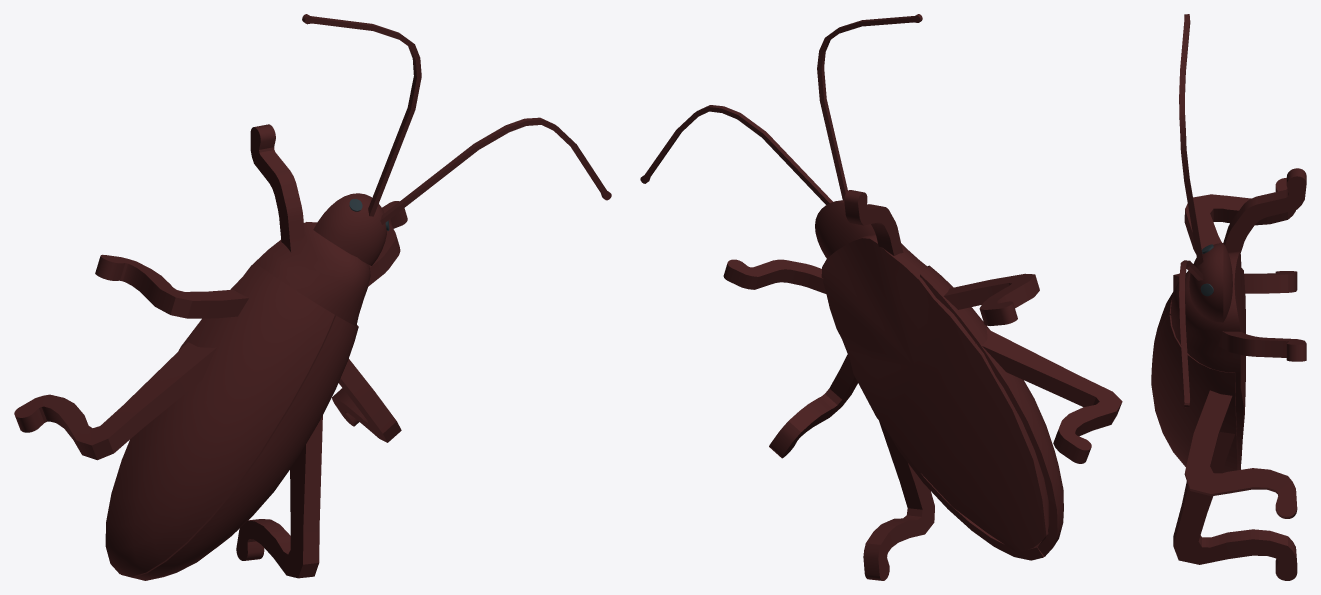
File: cockroach.glb
3 renders of one model, left to right at view 1: azimuth 30°, elevation 25°; view 2: azimuth 150°, elevation 25°; view 3: azimuth 270°, elevation 25°, orthographic. The views are drawn at different scales.
Parts seen in each view (by area): view 1: Sphere.387, Cube.152, Cube.150, Cube.151, Cube.153; view 2: Cube.150, Cube.152, Sphere.387, Cube.151, Cube.153; view 3: Cube.152, Sphere.387, Cube.150, Cube.151, Cube.153.
Part boxes in pixels (x1,y1,x2,y2): Sphere.387: (105,263,358,580); Cube.152: (14,124,407,578); Cube.150: (178,222,370,350); Cube.151: (302,14,611,224); Cube.153: (313,193,386,265); Cube.150: (821,235,1049,552); Cube.152: (723,190,1122,580); Sphere.387: (842,265,1063,560); Cube.151: (640,14,922,204); Cube.153: (815,200,875,258); Cube.152: (1173,168,1306,580); Sphere.387: (1151,291,1237,473); Cube.150: (1171,251,1245,470); Cube.151: (1179,14,1203,407); Cube.153: (1189,243,1232,322).
Size of the model in its own units: 2.25 by 2.3 by 0.5722.
Materials: 1 (1 with a texture image).
